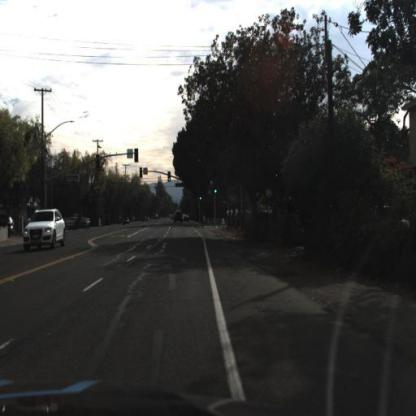car: (24, 209, 67, 255)
trafficLight-Green: (213, 181, 220, 197), (167, 172, 172, 184), (199, 192, 204, 204)
